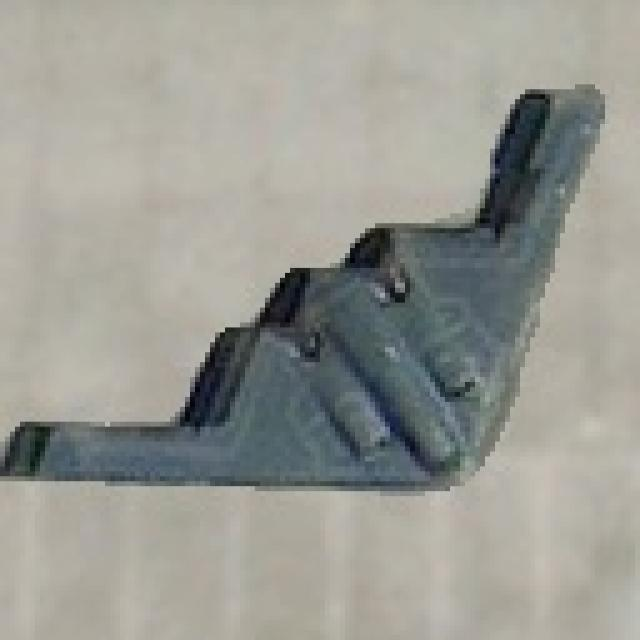B-2_TopDown: (0, 75, 605, 496)
